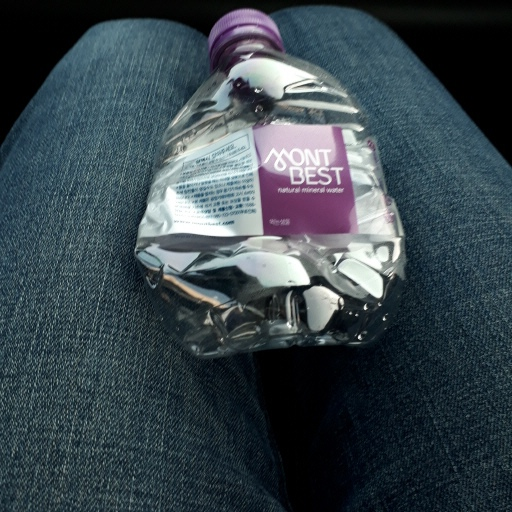Plastic_0: (137, 10, 407, 357)
